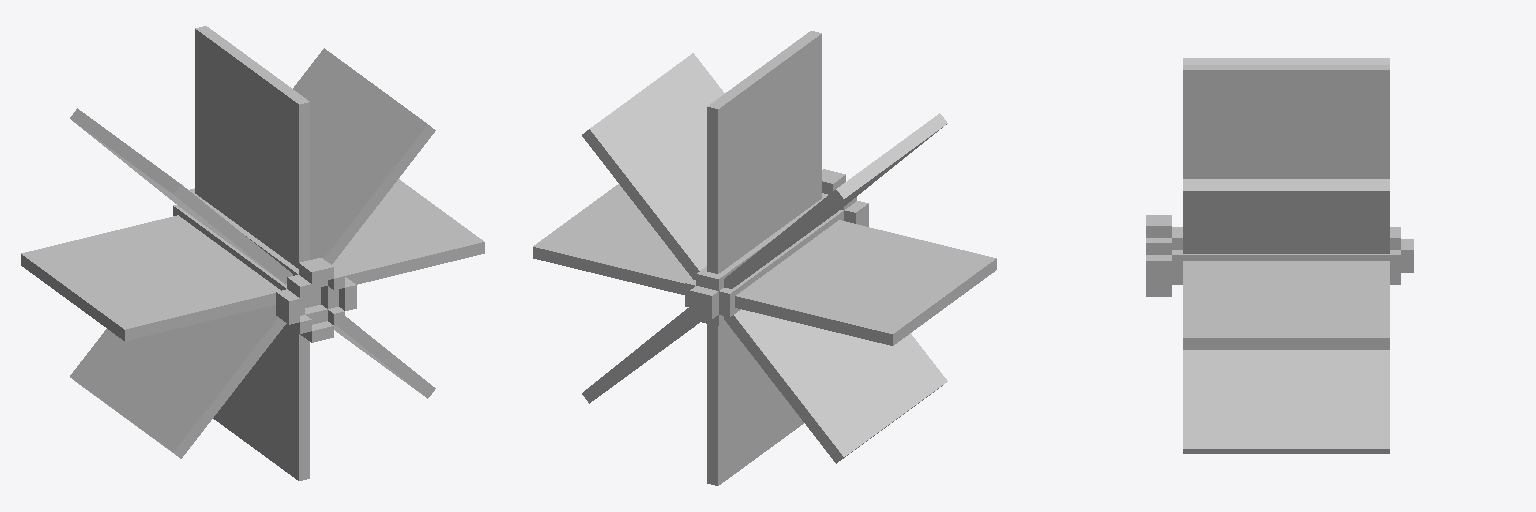
The model's file is waterwheel_centered.obj.
3 views of the same model, side by side, from view 1: azimuth 30°, elevation 25°; view 2: azimuth 150°, elevation 25°; view 3: azimuth 270°, elevation 25° (orthographic).
Parts seen in each view (by area): view 1: Cube.006_Cube.007; view 2: Cube.006_Cube.007; view 3: Cube.006_Cube.007.
Part boxes in pixels (x1,y1,x2,y2): Cube.006_Cube.007: (21,26,484,480); Cube.006_Cube.007: (533,31,996,485); Cube.006_Cube.007: (1146,58,1413,453).
Bounding box in the file's own units: 2 × 2 × 1.29.